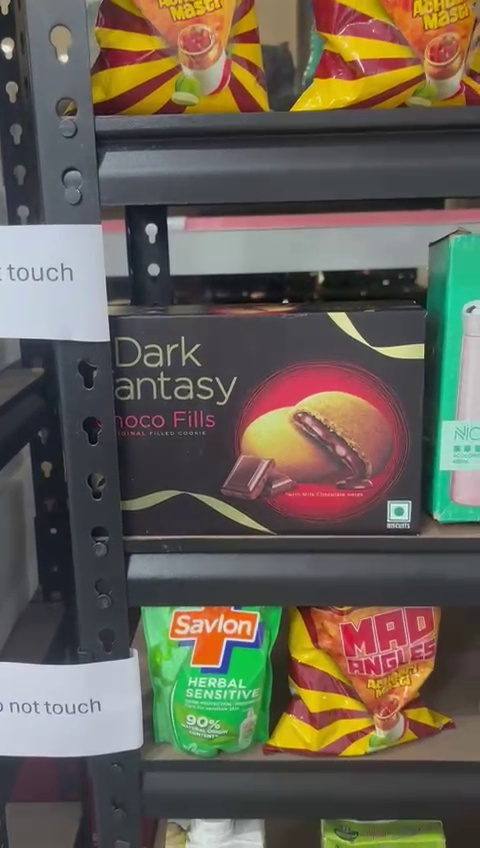Bingo Mad Angles: (289, 604, 438, 749)
Dark Fantasy: (109, 295, 426, 531)
Savlon Herbal: (142, 606, 278, 760)
